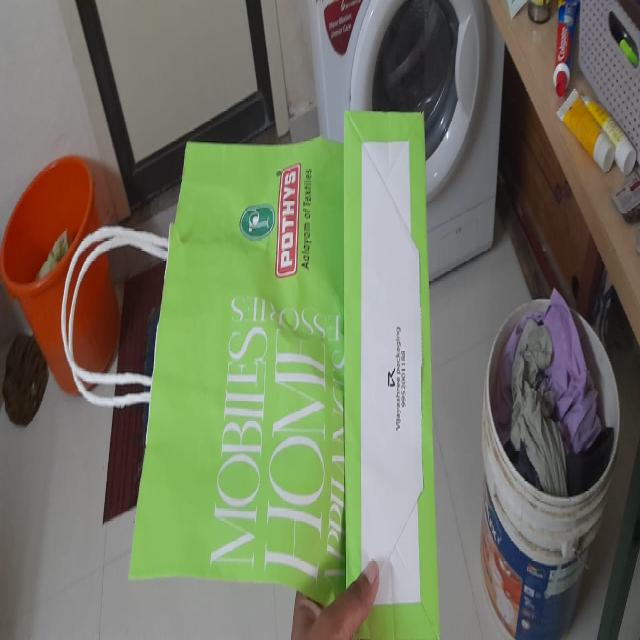Paper_Bag - Recyclable: (127, 111, 439, 636)
